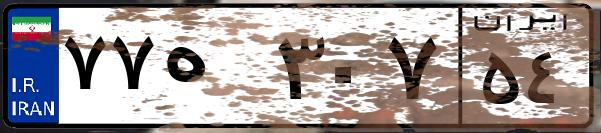0: (330, 28, 385, 110)
3: (270, 28, 330, 110)
4: (525, 38, 570, 115)
5: (475, 38, 525, 113)
7: (385, 28, 445, 110), (57, 26, 110, 100), (110, 28, 158, 98)
ه: (158, 20, 270, 120)
